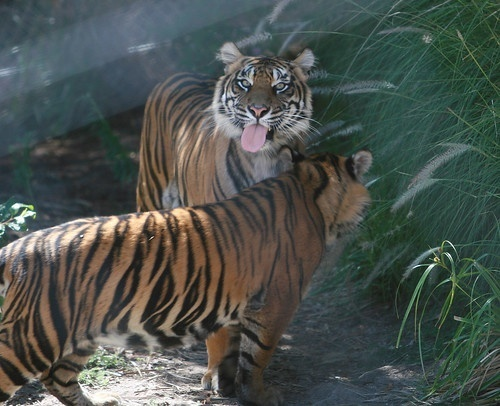tigre: (6, 145, 378, 400), (131, 37, 321, 210)
